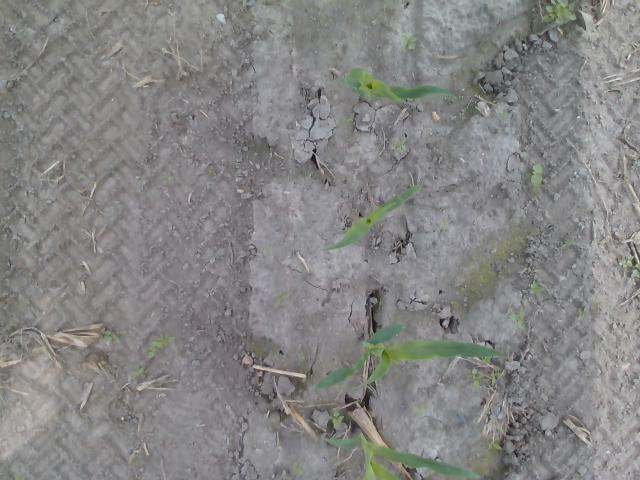Maize: (314, 324, 508, 388), (324, 431, 481, 480), (321, 184, 422, 251), (337, 68, 458, 106)
Weeds: (542, 0, 576, 26), (148, 332, 176, 359), (522, 162, 542, 196), (618, 254, 640, 278), (98, 330, 125, 344), (466, 368, 483, 388), (509, 310, 526, 330), (400, 34, 418, 52), (131, 363, 150, 380), (275, 290, 291, 308), (328, 412, 345, 428), (413, 401, 429, 418), (490, 366, 502, 386), (390, 138, 407, 152), (529, 281, 545, 294), (292, 461, 304, 475), (487, 440, 501, 451), (161, 172, 173, 184), (72, 170, 86, 180), (342, 113, 354, 124), (264, 245, 274, 257), (296, 350, 306, 361), (577, 308, 588, 318), (560, 241, 574, 248), (498, 110, 509, 118), (14, 476, 26, 480), (523, 262, 530, 266)
